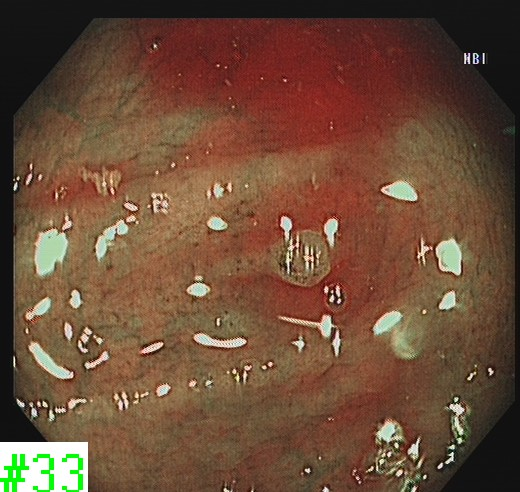adenoma: (264, 224, 333, 292)
